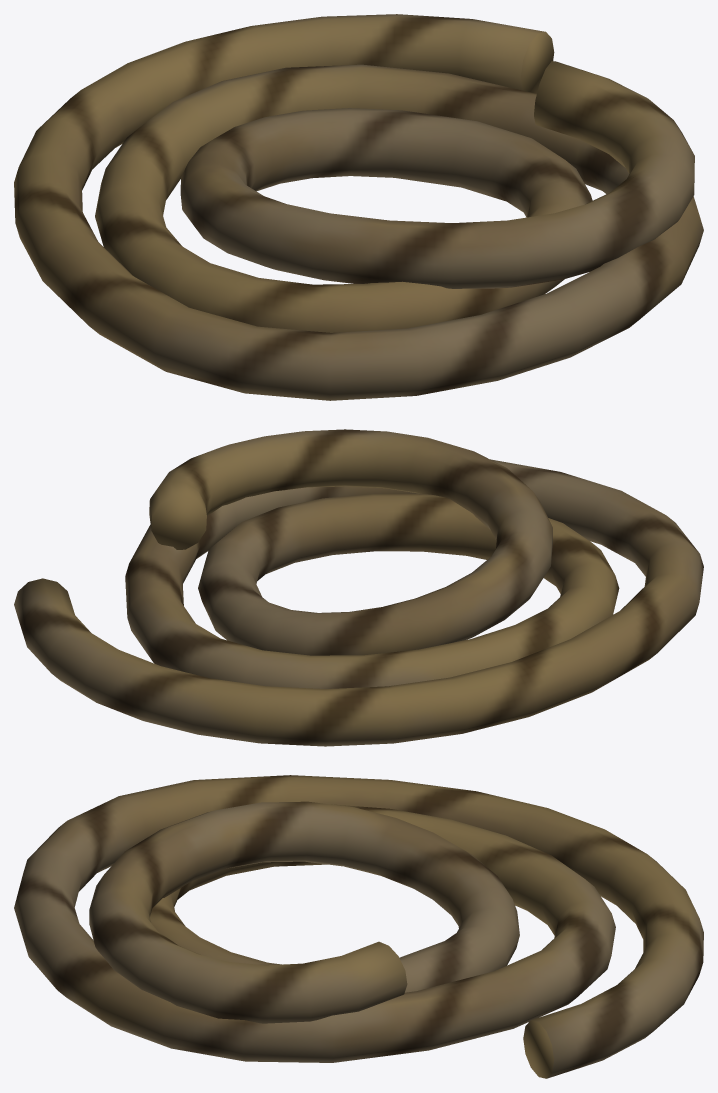
Rendered from rope_1.glb.
3 views of the same model, one above another, from view 1: azimuth 30°, elevation 25°; view 2: azimuth 150°, elevation 25°; view 3: azimuth 270°, elevation 25° (orthographic). The views are drawn at different scales.
Parts seen in each view (by area): view 1: Rope_1; view 2: Rope_1; view 3: Rope_1.
Part boxes in pixels (x1,y1,x2,y2): Rope_1: (14,14,703,400); Rope_1: (14,429,703,746); Rope_1: (14,775,703,1078).
Bounding box in the file's own units: 0.5574 × 0.0979 × 0.6063.
Materials: 1 (1 with a texture image).
